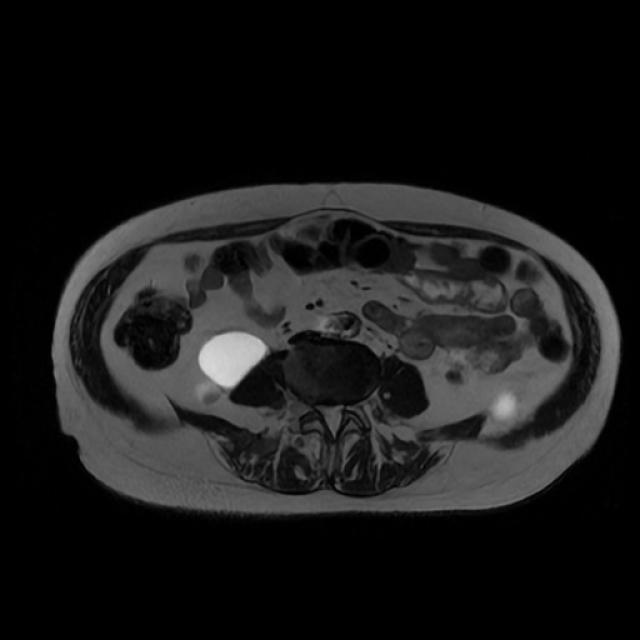sag: (192, 329, 270, 406)
sol: (487, 392, 520, 424)
